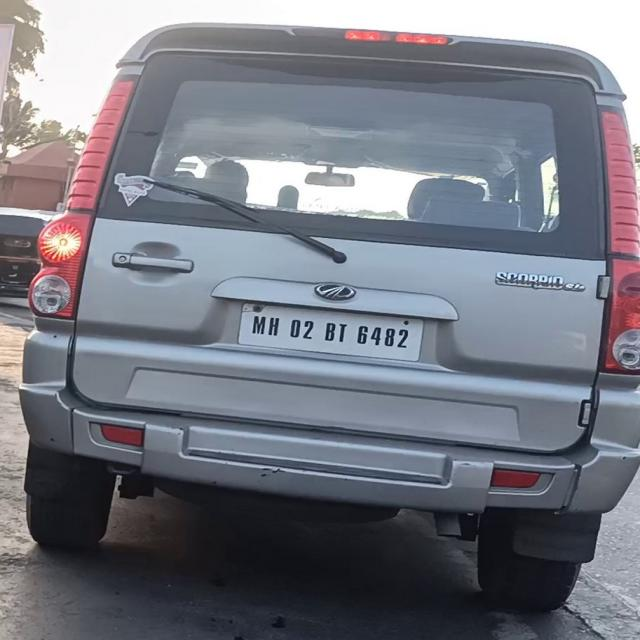license-plate: (236, 302, 424, 363)
